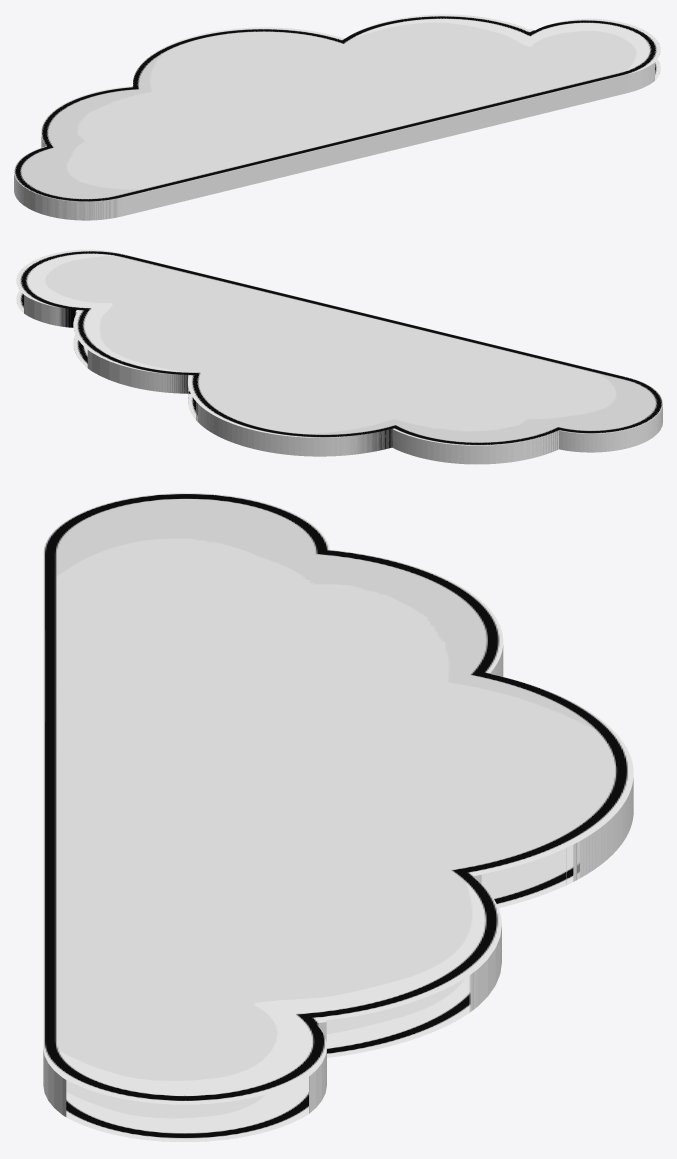
Rendered from wolk-2.dae.
The picture shows the model from 3 angles, top to bottom: view 1: azimuth 30°, elevation 25°; view 2: azimuth 150°, elevation 25°; view 3: azimuth 270°, elevation 25°; orthographic projection. The views are drawn at different scales.
Visible parts, largest first — view 1: Curve_001; view 2: Curve_001; view 3: Curve_001.
Boxes of the visible parts, bbox=[...] form: Curve_001: bbox=[14, 14, 660, 220]; Curve_001: bbox=[16, 249, 662, 464]; Curve_001: bbox=[43, 493, 633, 1141].
Bounding box in the file's own units: 0.3518 × 0.1429 × 0.01.
1 material, 1 textured.
